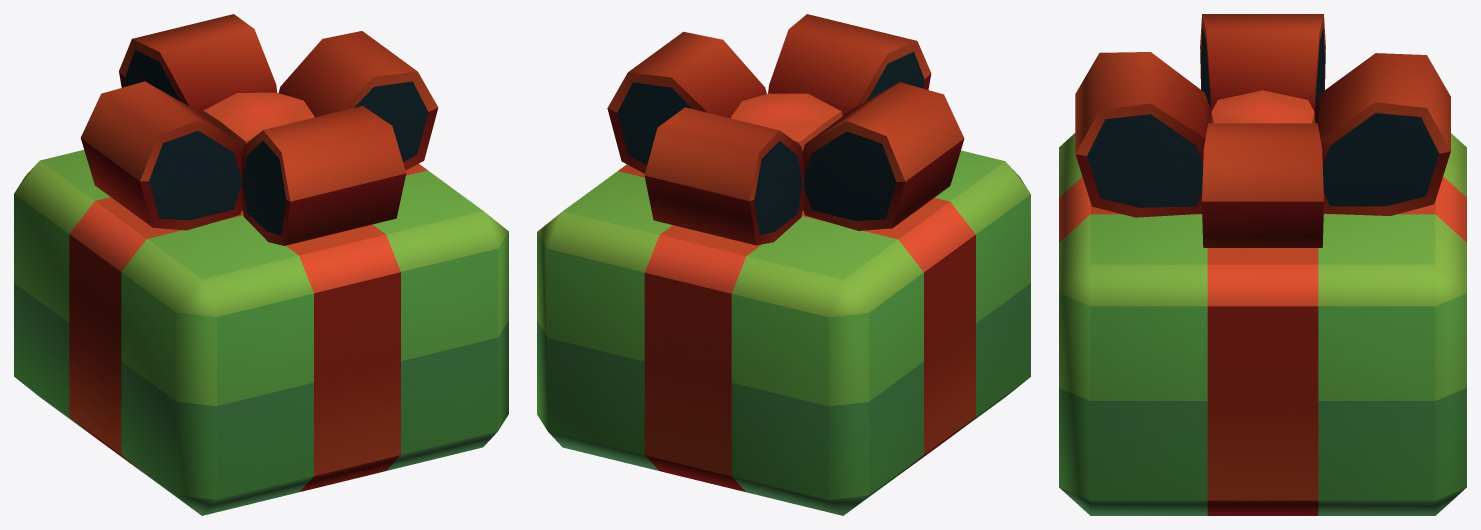
File: presi_square_5_green.fbx
3 views of the same model, side by side, from view 1: azimuth 30°, elevation 25°; view 2: azimuth 150°, elevation 25°; view 3: azimuth 270°, elevation 25° (orthographic). The views are drawn at different scales.
Visible parts, largest first — view 1: presi_square_5_green; view 2: presi_square_5_green; view 3: presi_square_5_green.
Boxes of the visible parts, x1,y1,x2,y2 form: presi_square_5_green: (14, 14, 508, 515); presi_square_5_green: (537, 14, 1030, 515); presi_square_5_green: (1059, 14, 1466, 515).
Bounding box in the file's own units: 75 × 74 × 75.
1 material, 1 textured.
